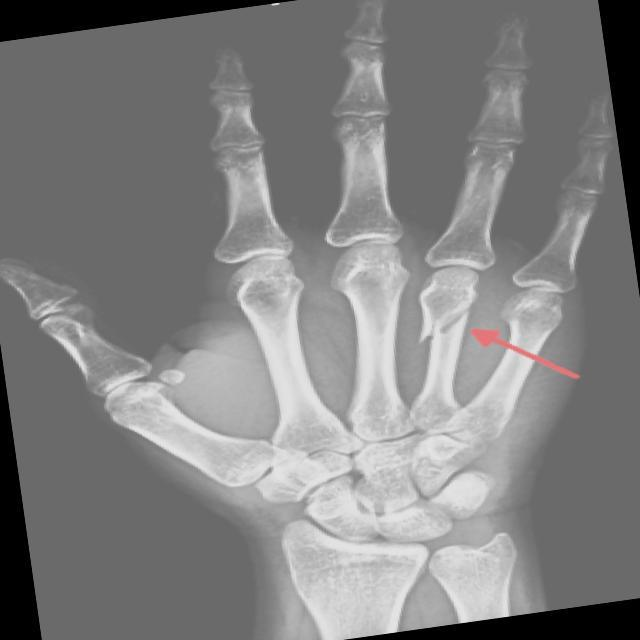GreenStick Fracture: (423, 291, 472, 344)
